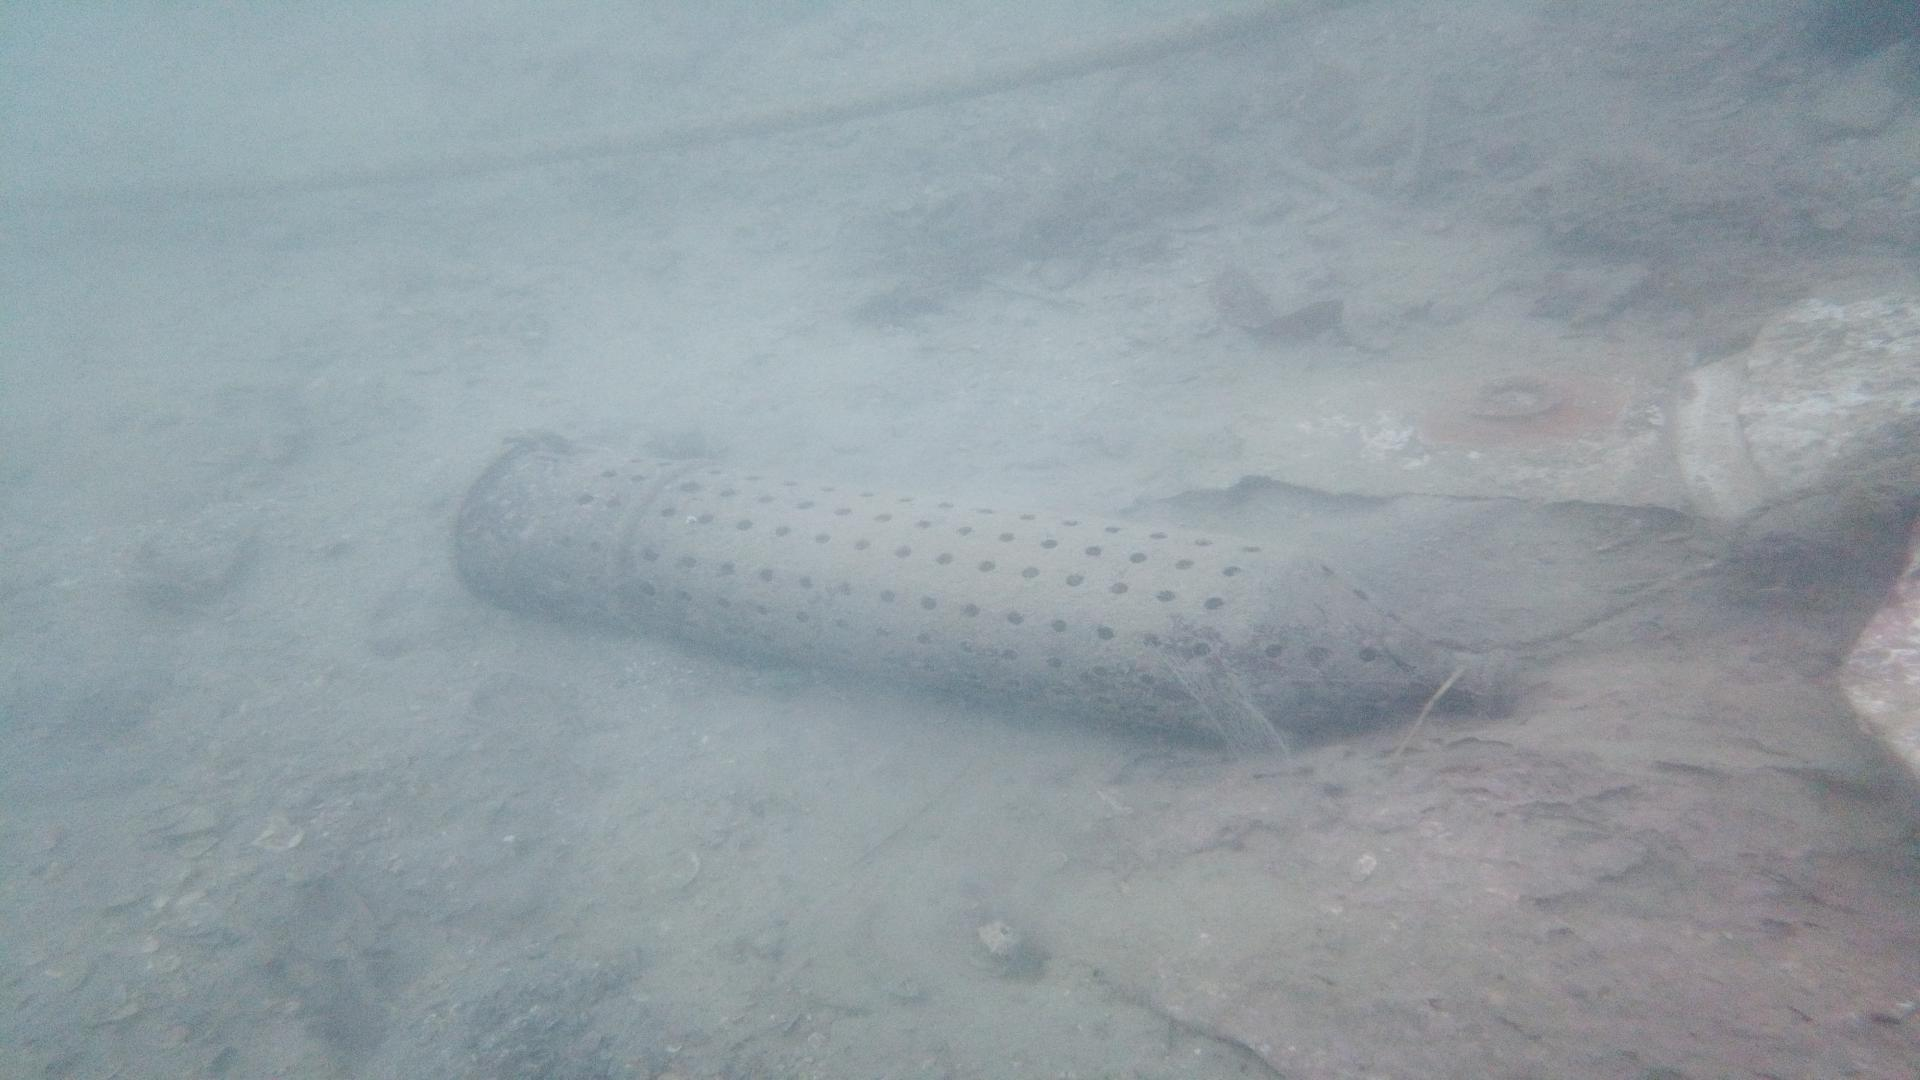eel fish trap: (443, 422, 1535, 749)
